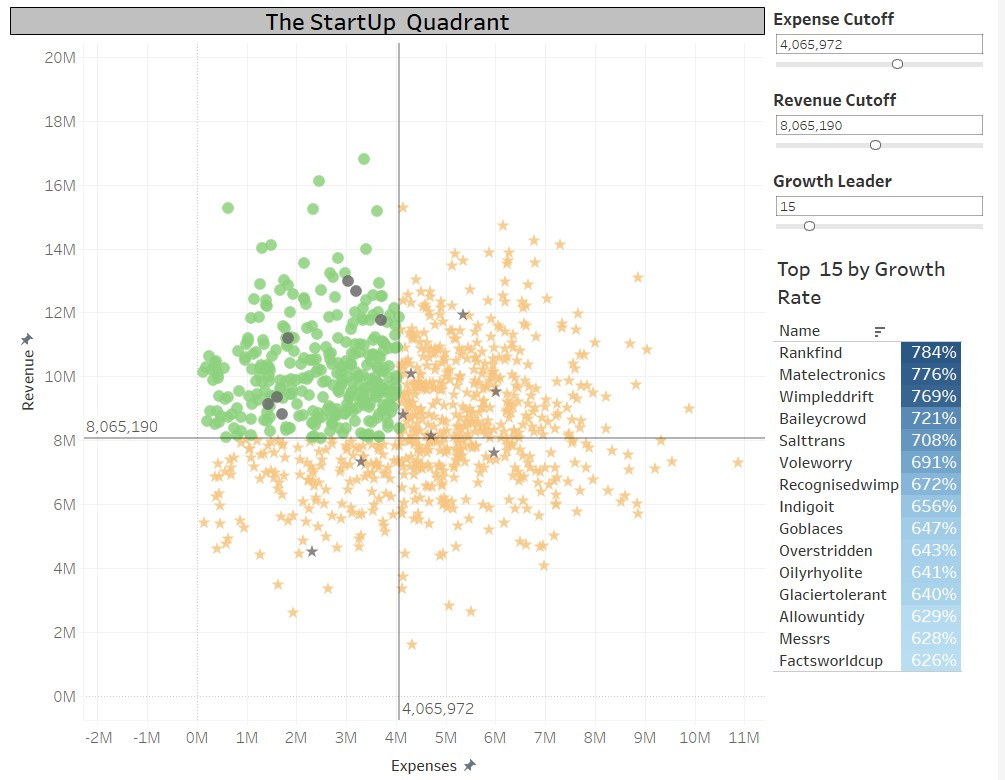

What the dashboard file says about the page in this screenshot:
{"tool":"tableau","page":{"name":"Dashboard 1","canvas":[1000,800],"ordinal":0},"visuals":[{"type":"text","box":[8,8,763,36]},{"type":"parameter","param":"[Parameters].[Parameter 3]","box":[771,8,221,81]},{"type":"worksheet","title":"Scatter Plot","mark":"Automatic","rows":["2015 Revenue"],"cols":["2015 Expenses"],"box":[8,44,763,748]},{"type":"parameter","param":"[Parameters].[Parameter 2]","box":[771,89,221,81]},{"type":"parameter","param":"[Parameters].[Parameter 1]","box":[771,170,221,81]},{"type":"worksheet","title":"Growth","mark":"Square","rows":["Name"],"box":[771,251,221,509]}]}

Visuals, with their boxes on the page's 1000x800 design canvas (x1, y1, x2, y2). These are canvas units, not pixel positions in the 1005x780 screenshot, which may show the page scaled, cropped or inside an application window:
text: <bbox>8, 8, 771, 44</bbox>
parameter: <bbox>771, 8, 992, 89</bbox>
"Scatter Plot" worksheet: <bbox>8, 44, 771, 792</bbox>
parameter: <bbox>771, 89, 992, 170</bbox>
parameter: <bbox>771, 170, 992, 251</bbox>
"Growth" worksheet (Square marks): <bbox>771, 251, 992, 760</bbox>
